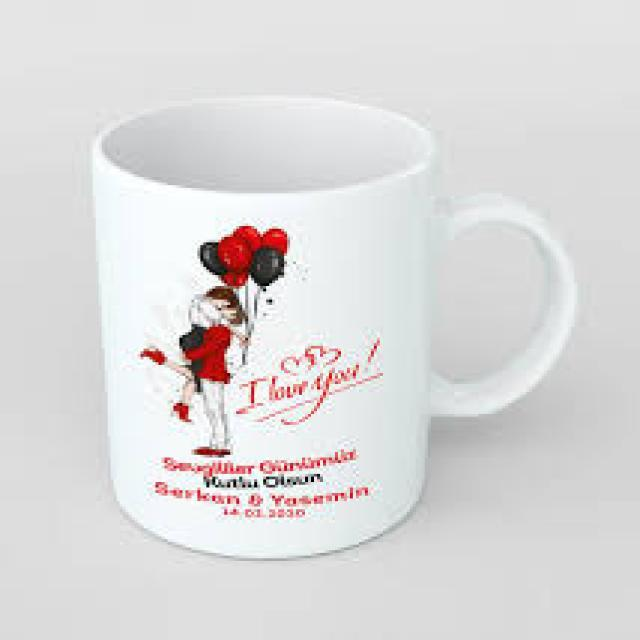taza: (92, 95, 579, 562)
